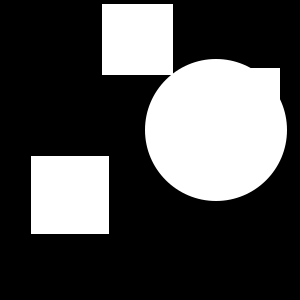circle: (31, 156, 109, 234), (207, 68, 280, 141), (102, 4, 173, 75)
rectangle: (145, 59, 287, 201)
